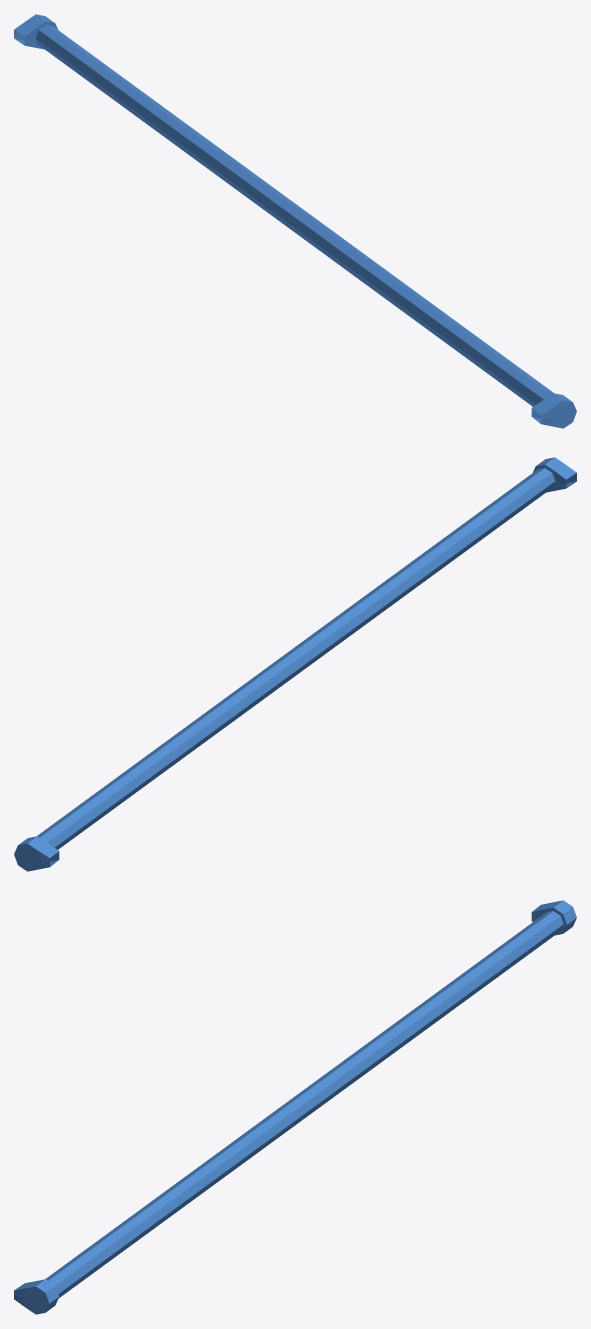
Rendered from Childrens_Room_Cornice.fbx.
The picture shows the model from 3 angles, top to bottom: view 1: azimuth 30°, elevation 25°; view 2: azimuth 150°, elevation 25°; view 3: azimuth 330°, elevation 25°; orthographic projection.
Visible parts, largest first — view 1: Childrens_Room_Cornice; view 2: Childrens_Room_Cornice; view 3: Childrens_Room_Cornice.
Part boxes in pixels (<box>): Childrens_Room_Cornice: <box>14,14,576,428</box>; Childrens_Room_Cornice: <box>14,457,576,871</box>; Childrens_Room_Cornice: <box>14,900,576,1314</box>.
Size of the model in its own units: 18.65 by 14.06 by 478.
